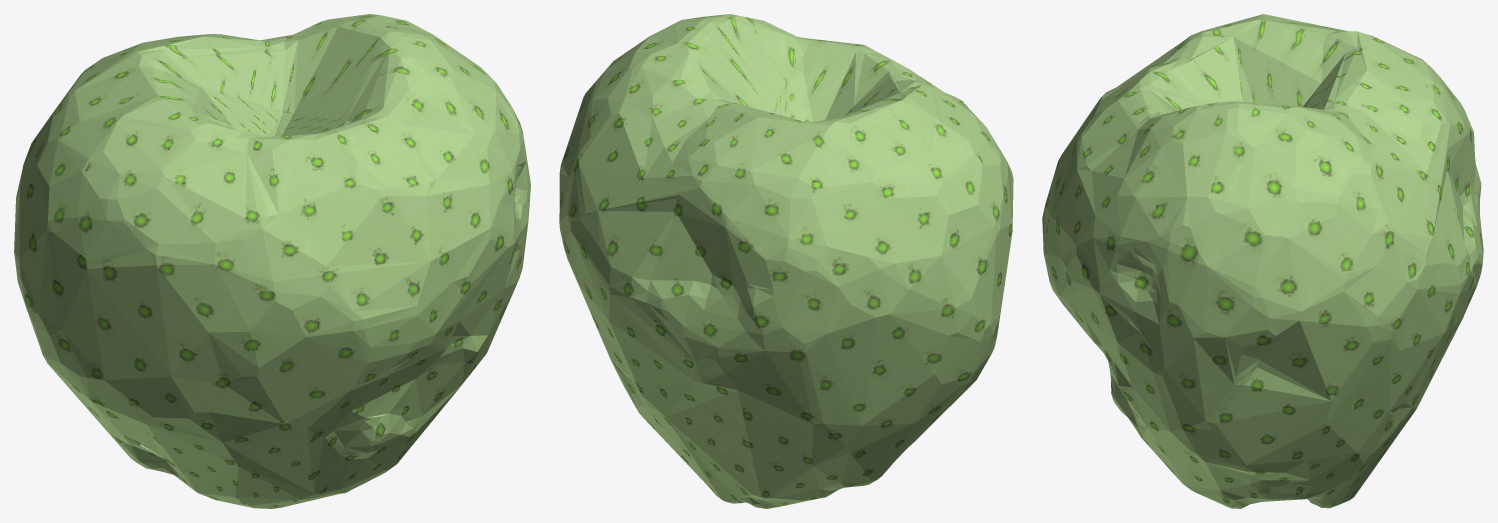
3 renders of one model, left to right at view 1: azimuth 30°, elevation 25°; view 2: azimuth 150°, elevation 25°; view 3: azimuth 270°, elevation 25°, orthographic. The views are drawn at different scales.
Parts seen in each view (by area): view 1: _002_Meshed; view 2: _002_Meshed; view 3: _002_Meshed.
Boxes of the visible parts, x1,y1,x2,y2 form: _002_Meshed: (14,14,530,508); _002_Meshed: (559,14,1013,508); _002_Meshed: (1042,14,1483,508).
Size of the model in its own units: 0.1 by 0.0879 by 0.0956.
1 material, 1 textured.
